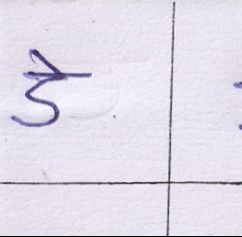e_matra: (29, 49, 67, 72)
